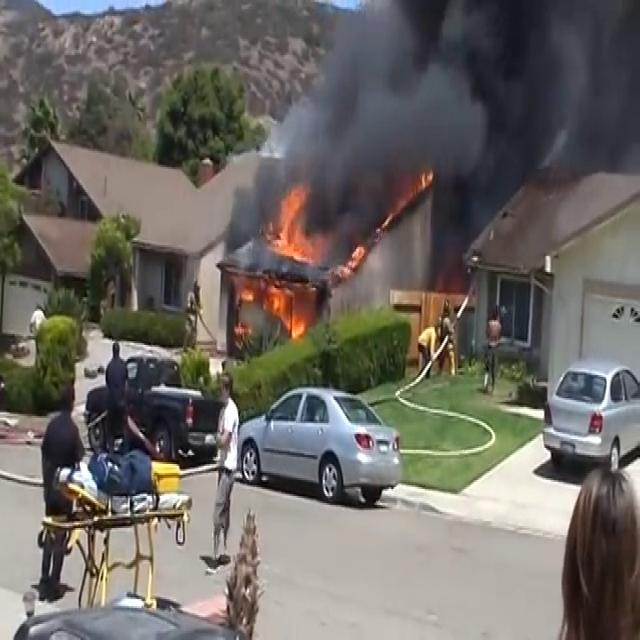Fire: (266, 182, 322, 260), (261, 282, 310, 339)
Smoke: (250, 0, 640, 249)
